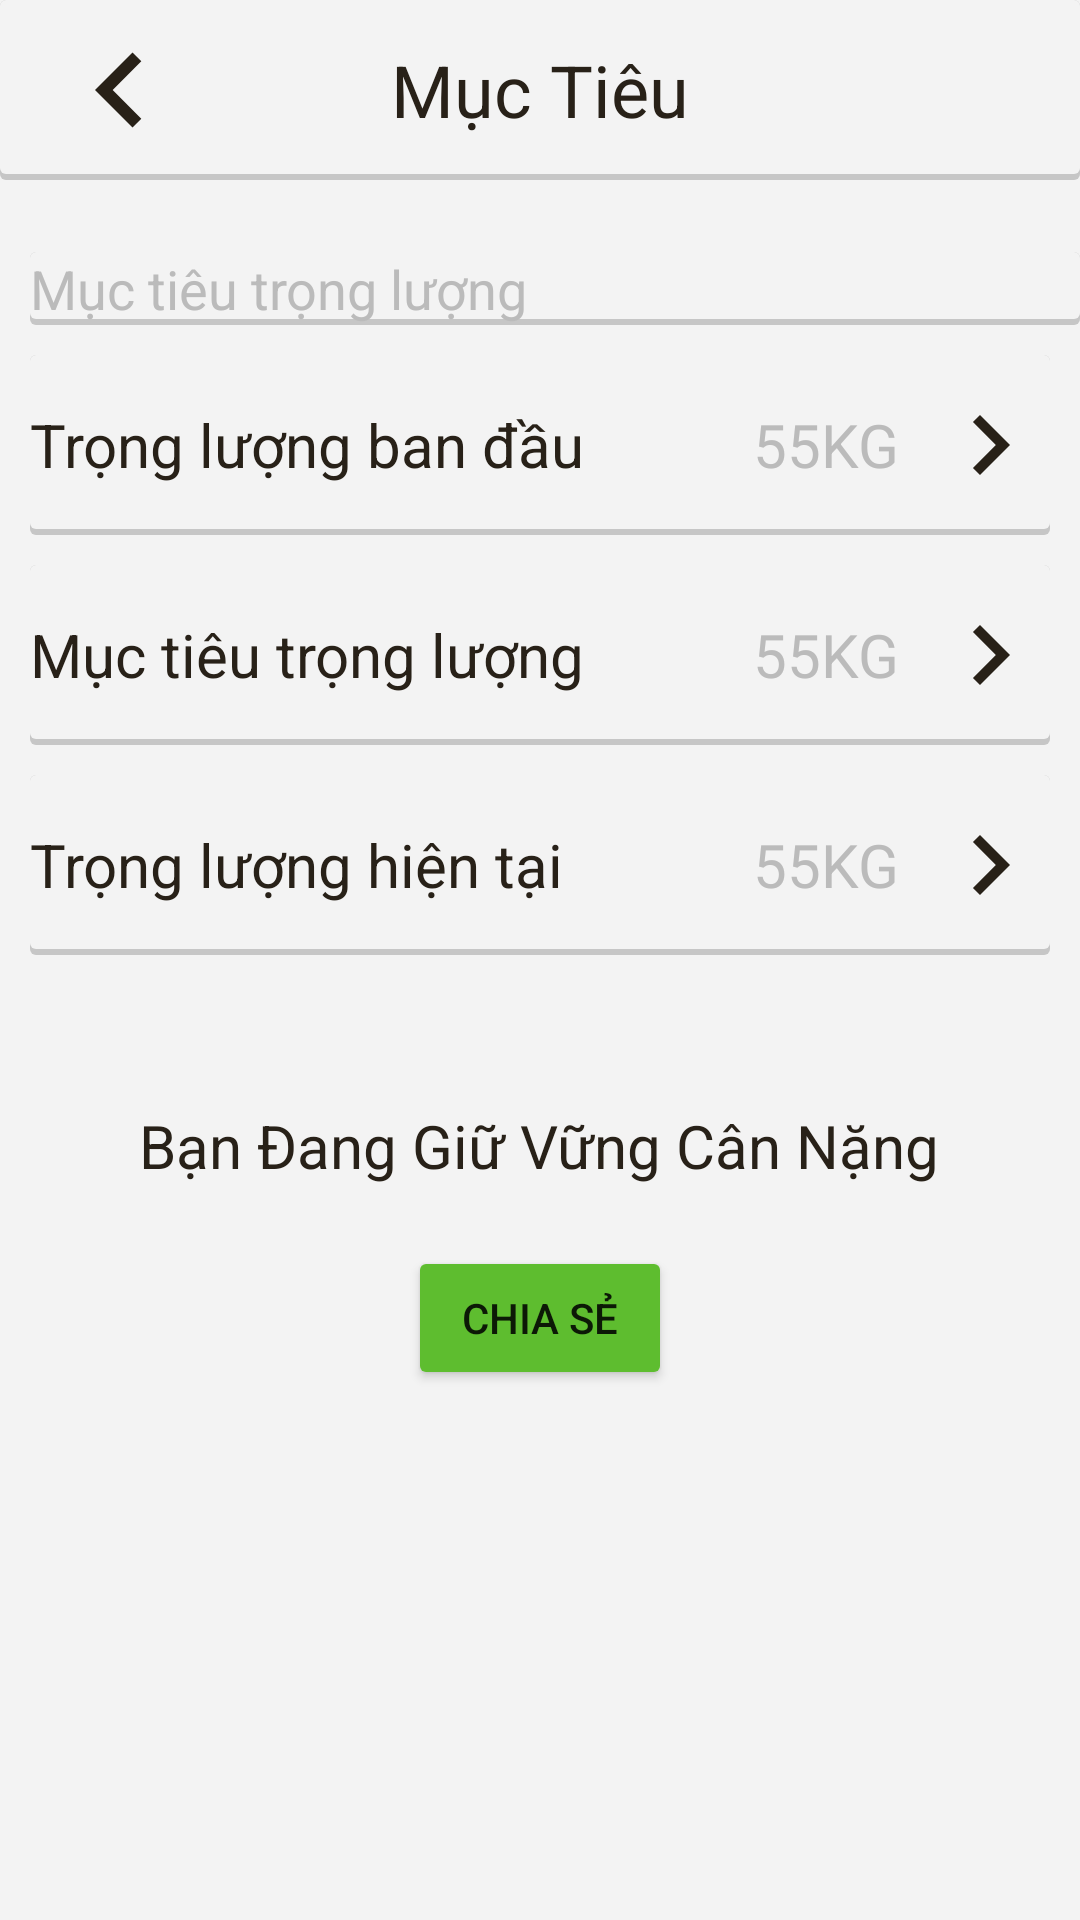

Icon bounding boxes for this 1080*1920 phone screenshot, format (x1, y1, x2, y2):
keyboard arrow left: (95, 52, 141, 128)
keyboard arrow right: (973, 415, 1010, 475), (973, 625, 1010, 685), (973, 835, 1010, 895)
